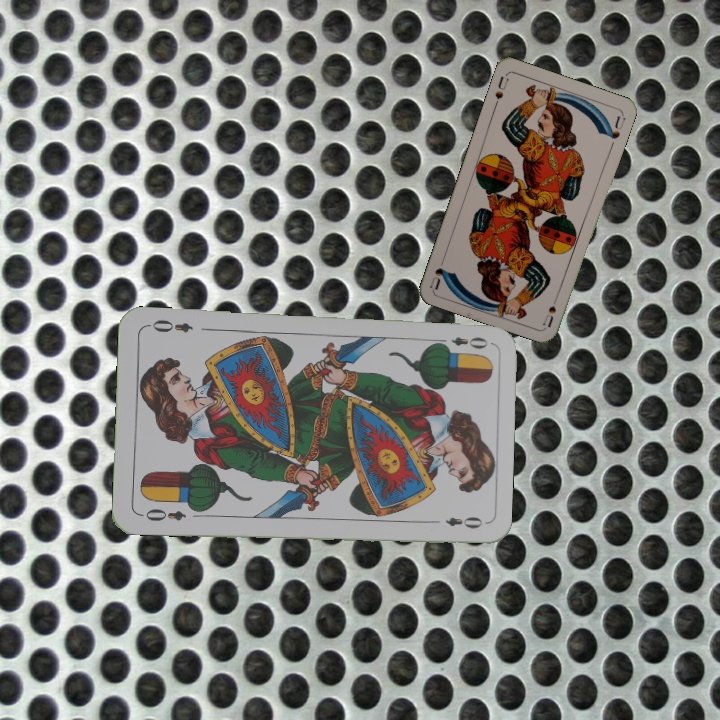EO: (432, 332, 491, 351), (136, 504, 188, 524)
SU: (539, 289, 561, 329), (490, 71, 511, 110)
